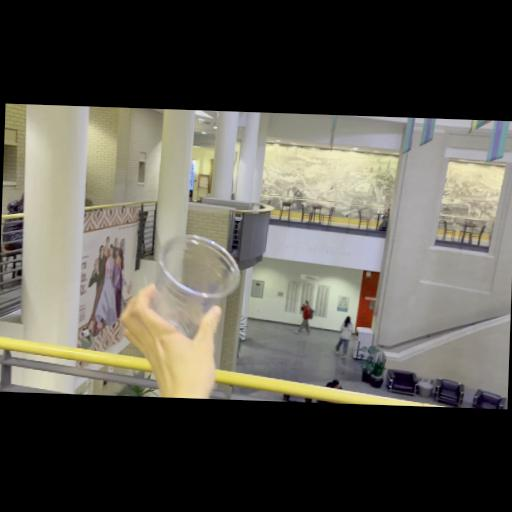lp_plastic_cup: (150, 233, 240, 341)
